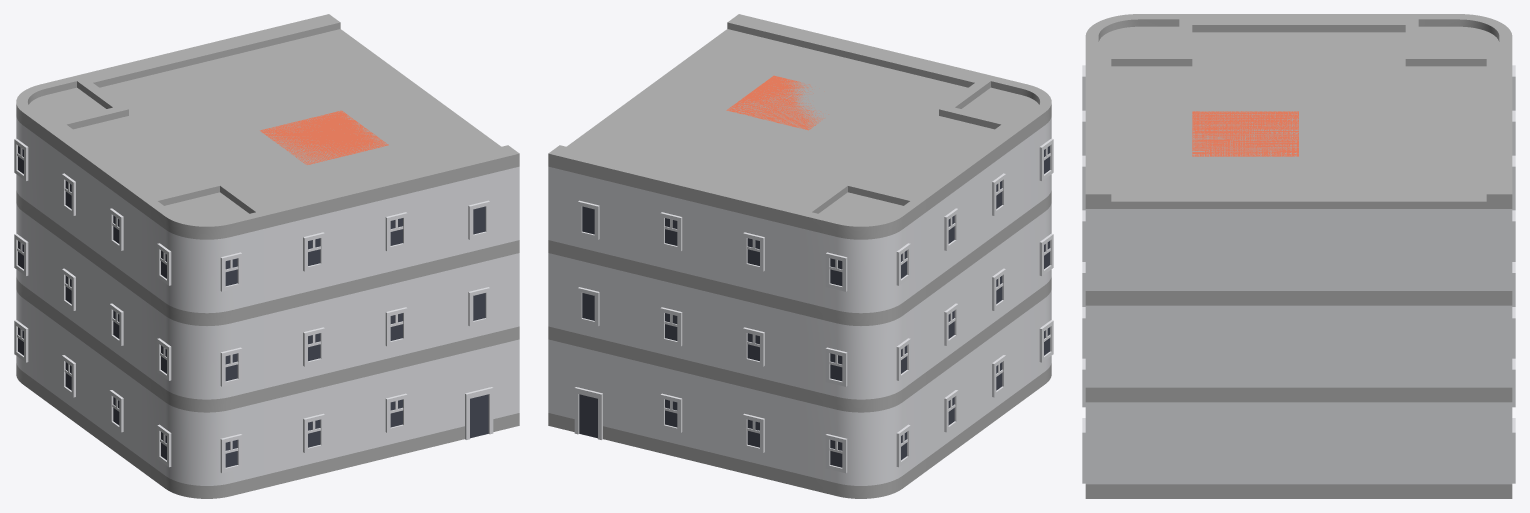
The model's file is ImmeubleBoutNormalGris.fbx.
The picture shows the model from 3 angles, left to right: view 1: azimuth 30°, elevation 25°; view 2: azimuth 150°, elevation 25°; view 3: azimuth 270°, elevation 25°; orthographic projection. The views are drawn at different scales.
Parts seen in each view (by area): view 1: block_corner_round_small_229, block_corner_round_small_230, block_corner_round_small_228, roof_flat_largeSide_167, roof_flat_largeSide_166, roof_flat_largeSide_168, roof_flat_largeSide_246, roof_flat_largeSide_248, roof_flat_largeSide_245, block_124, block_146, block_153 (+33 smaller); view 2: block_corner_round_small_198, block_corner_round_small_199, block_corner_round_small_197, roof_flat_largeSide_167, roof_flat_largeSide_166, roof_flat_largeSide_246, roof_flat_largeSide_168, roof_flat_largeSide_247, roof_flat_largeSide_244, block_118, block_135, block_162 (+33 smaller); view 3: roof_flat_largeSide_166, block_136, block_145, block_137, block_144, block_117, block_123, block_149, block_152, roof_flat_largeSide_245, block_121, block_122 (+12 smaller).
Part boxes in pixels (x1,y1,x2,y2): block_corner_round_small_229: (141, 299, 271, 412); block_corner_round_small_230: (141, 212, 271, 325); block_corner_round_small_228: (141, 385, 271, 498); roof_flat_largeSide_167: (164, 34, 341, 130); roof_flat_largeSide_166: (247, 14, 423, 110); roof_flat_largeSide_168: (81, 54, 258, 150); roof_flat_largeSide_246: (177, 130, 354, 226); roof_flat_largeSide_248: (342, 90, 519, 186); roof_flat_largeSide_245: (94, 130, 306, 211); block_124: (354, 359, 437, 465); block_146: (354, 273, 437, 379); block_153: (354, 187, 437, 292); block_corner_round_small_198: (796, 299, 926, 412); block_corner_round_small_199: (796, 212, 926, 325); block_corner_round_small_197: (796, 385, 926, 498); roof_flat_largeSide_167: (630, 110, 808, 206); roof_flat_largeSide_166: (548, 90, 725, 186); roof_flat_largeSide_246: (811, 54, 986, 150); roof_flat_largeSide_168: (713, 130, 890, 226); roof_flat_largeSide_247: (728, 34, 903, 130); roof_flat_largeSide_244: (764, 131, 973, 211); block_118: (630, 359, 713, 465); block_135: (630, 273, 713, 379); block_162: (630, 187, 713, 292); roof_flat_largeSide_166: (1299, 149, 1512, 208); block_136: (1405, 305, 1512, 402); block_145: (1085, 305, 1192, 402); block_137: (1299, 305, 1405, 402); block_144: (1192, 305, 1298, 402); block_117: (1405, 402, 1512, 498); block_123: (1085, 402, 1192, 498); block_149: (1405, 209, 1512, 305); block_152: (1085, 209, 1192, 305); roof_flat_largeSide_245: (1192, 14, 1298, 111); block_121: (1299, 402, 1405, 498); block_122: (1192, 402, 1298, 498).
Bounding box in the file's own units: 40.3 × 31.5 × 40.6.
